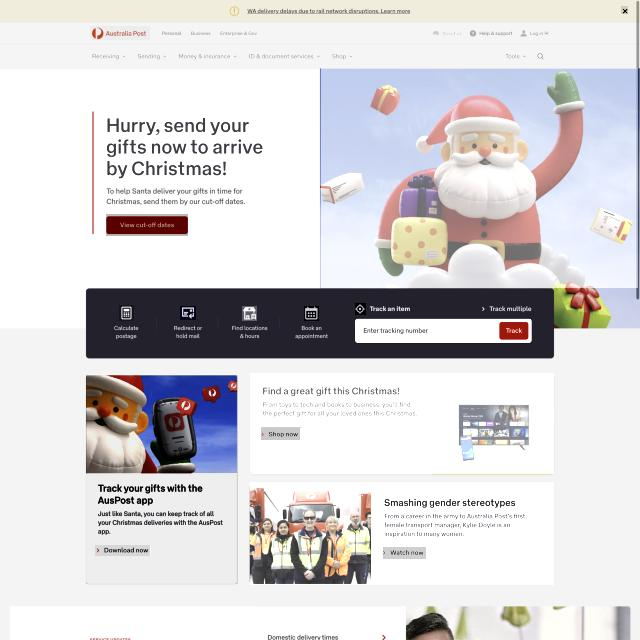CheckBox: (106, 214, 188, 236), (96, 545, 152, 556), (383, 547, 428, 559), (499, 322, 529, 339), (262, 428, 302, 440), (470, 29, 513, 37), (519, 29, 550, 38), (431, 29, 463, 37)
CheckedTextView: (355, 318, 532, 344)
ProgressBar: (0, 0, 640, 21)
Spinner: (86, 375, 238, 584), (250, 482, 554, 585), (250, 374, 554, 474)
bag: (0, 0, 640, 68)
carousel: (119, 305, 134, 321), (242, 306, 257, 321), (304, 306, 319, 321), (180, 306, 196, 320), (355, 303, 366, 315), (537, 51, 545, 61), (621, 6, 628, 14), (544, 31, 549, 35)
copy: (321, 68, 638, 288), (87, 376, 237, 474), (432, 374, 554, 474), (250, 484, 372, 584)
date picker: (90, 26, 150, 40)
decoration: (88, 50, 532, 62), (158, 28, 258, 39)
footer: (361, 327, 431, 336)
image: (103, 116, 266, 182)
